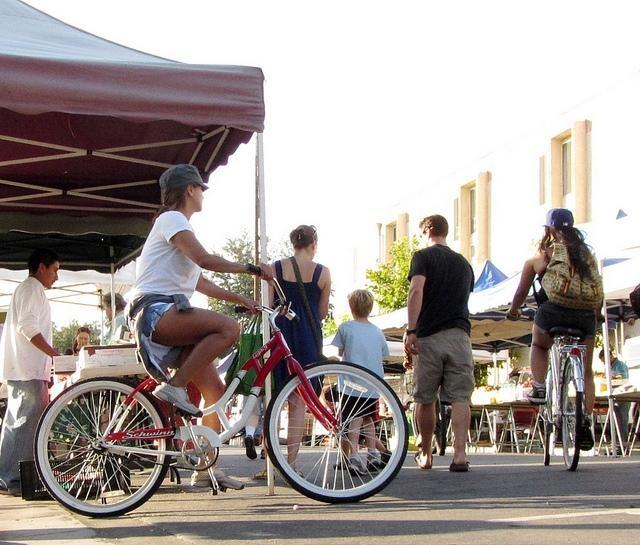bicycle: (31, 263, 416, 516), (535, 326, 585, 470)
